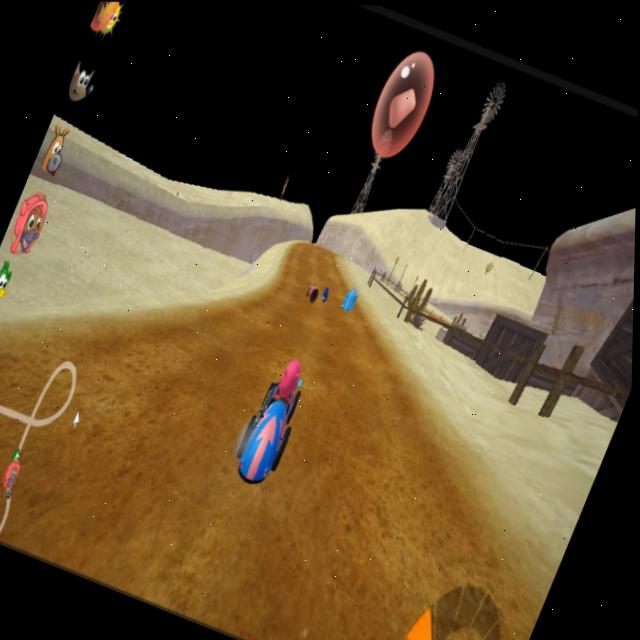bonus: (337, 279, 365, 314)
nitro: (321, 278, 335, 299)
off_track: (409, 235, 636, 459), (66, 166, 269, 307)
player_kart: (223, 340, 329, 491)
track: (91, 299, 274, 494), (247, 281, 395, 371), (292, 239, 341, 269)
